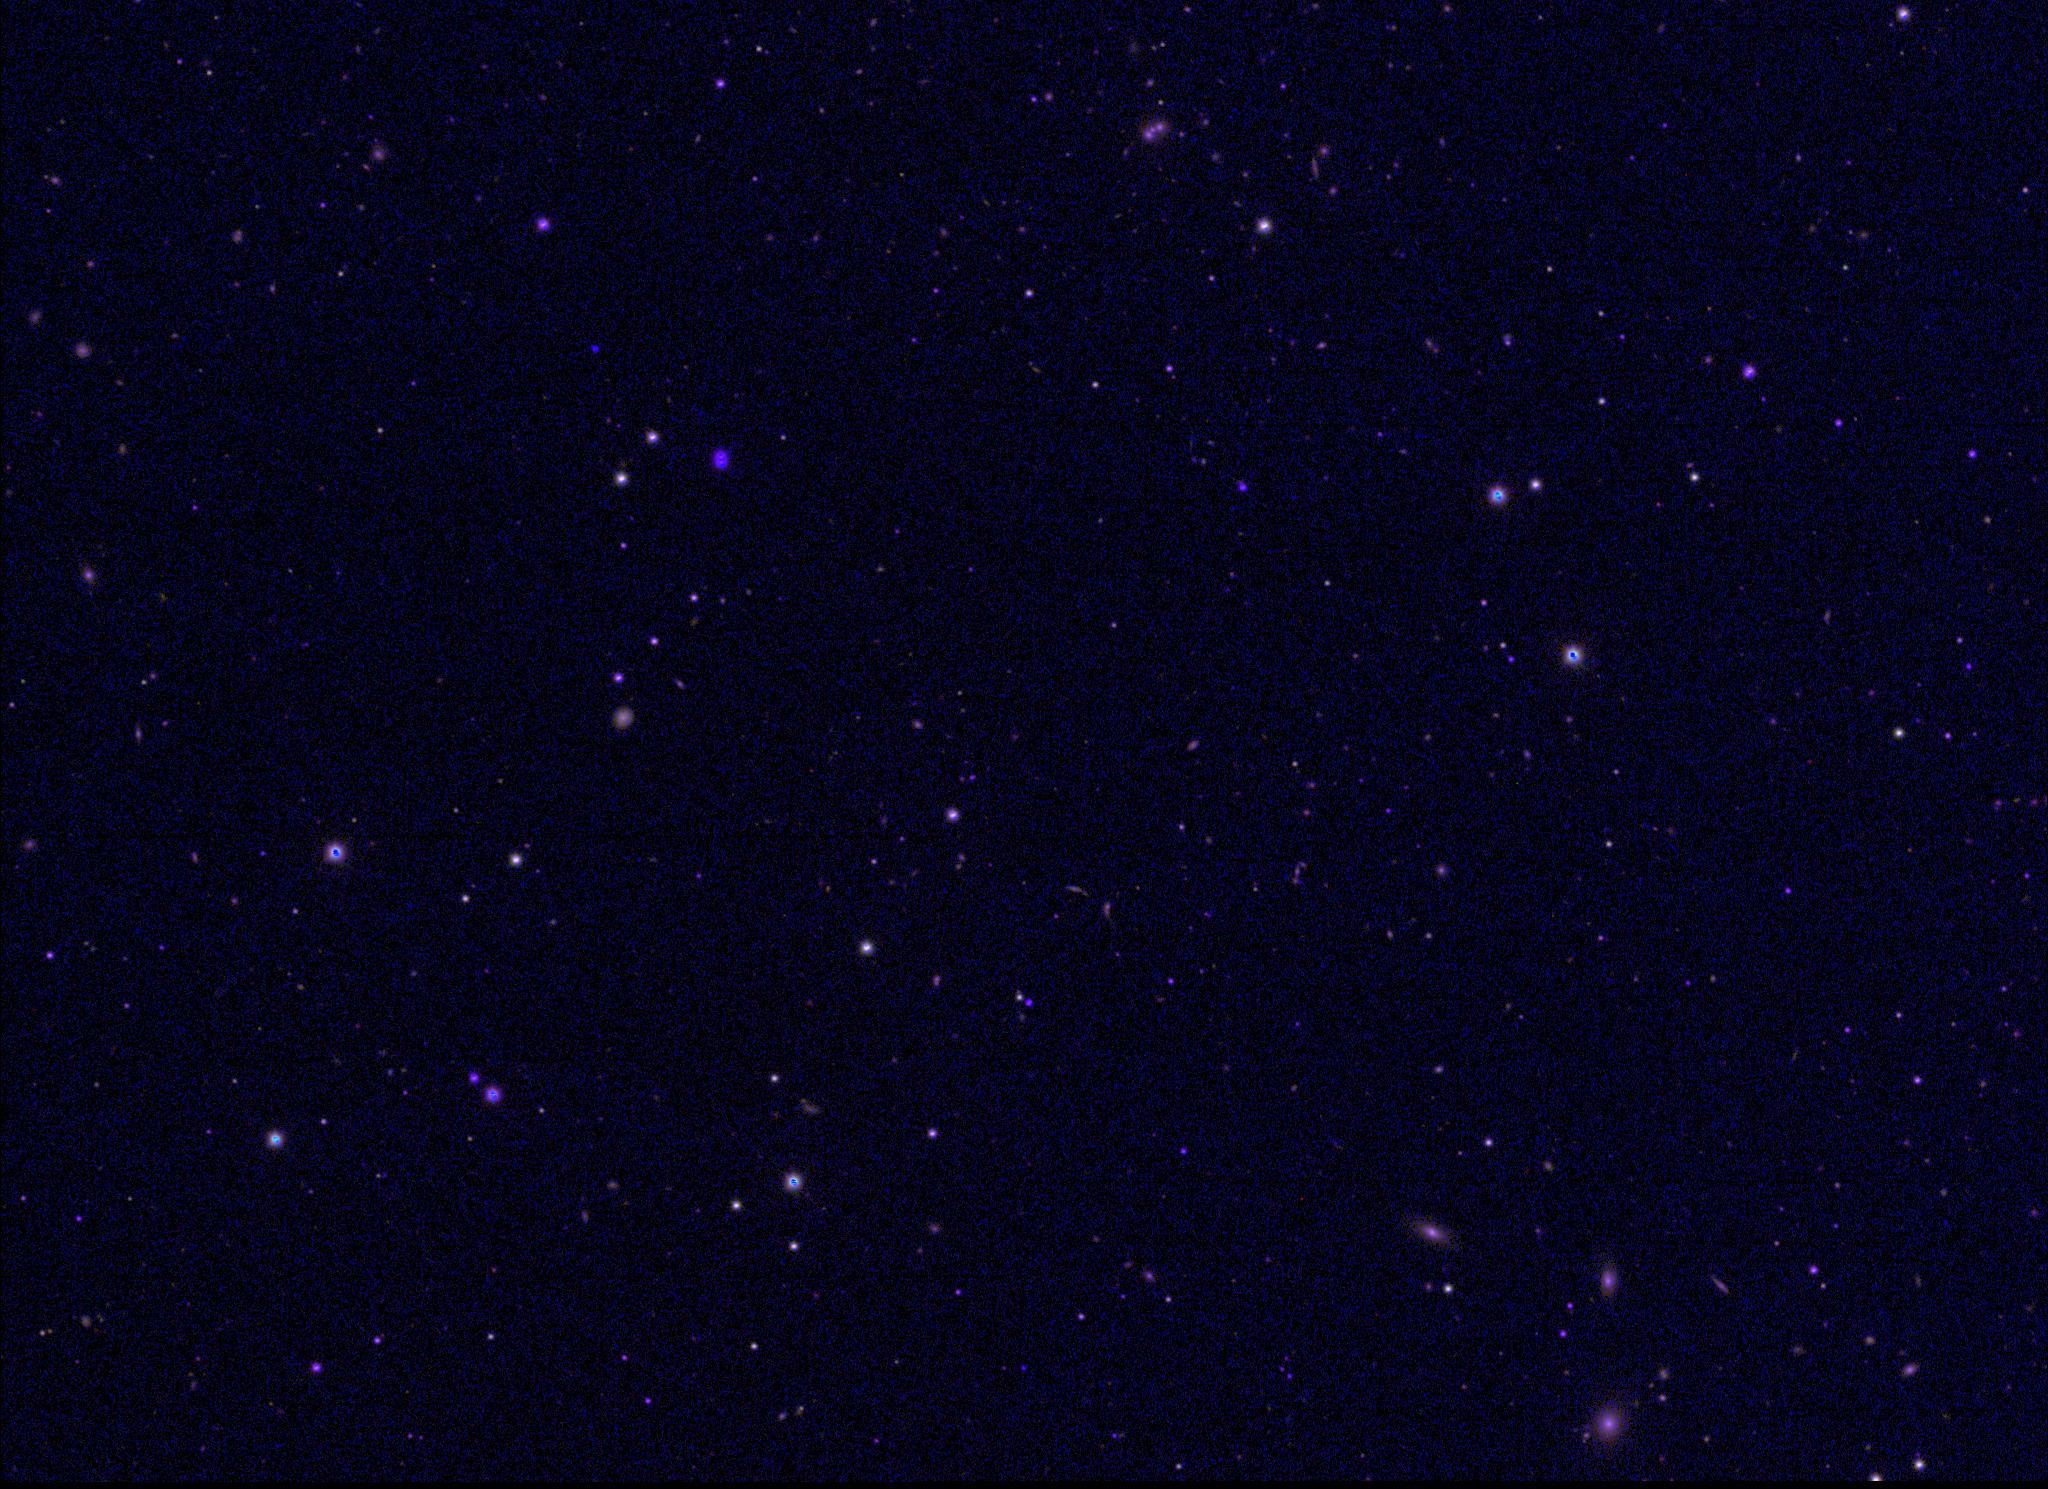L: (588, 344, 603, 356)
